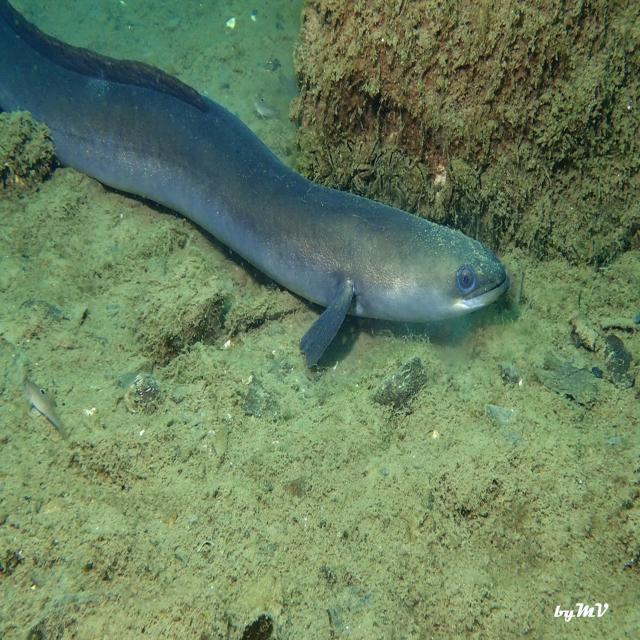Freshwater-Eel: (0, 0, 524, 402)
